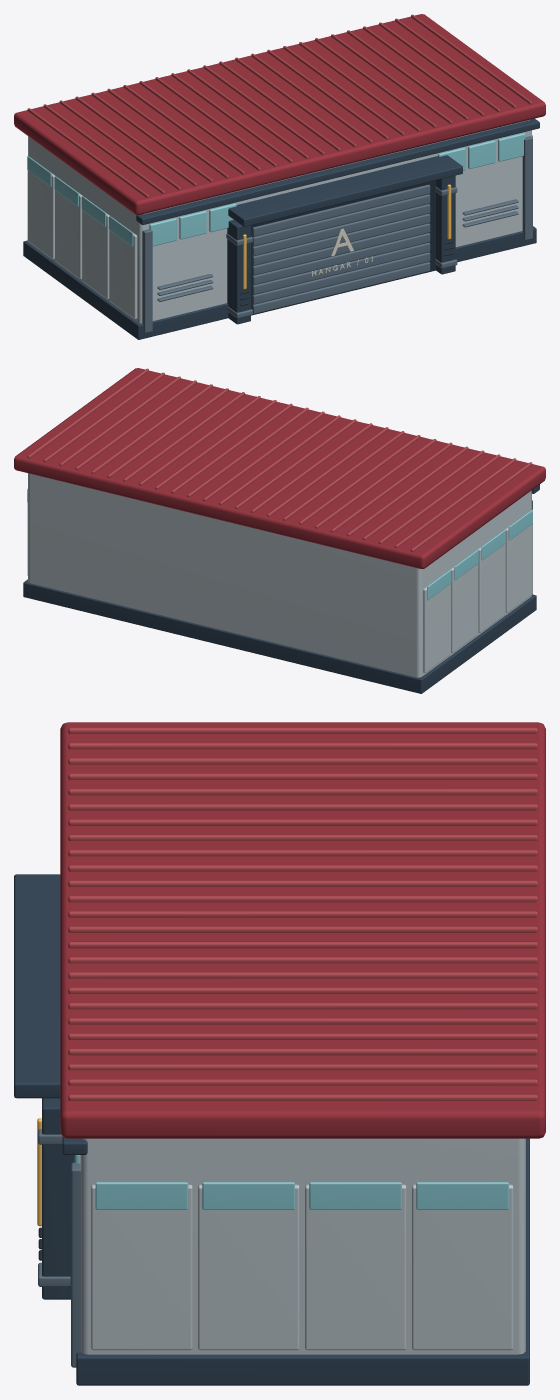
Rendered from hangar.glb.
3 views of the same model, one above another, from view 1: azimuth 30°, elevation 25°; view 2: azimuth 150°, elevation 25°; view 3: azimuth 270°, elevation 25° (orthographic). The views are drawn at different scales.
Visible parts, largest first — view 1: Techo, Nave, Visera, Zocalo, Alero continuo, Panel de costado, Panel de costado.003, Panel de costado.001, Panel de costado.002, Casete lateral, Hoja seccional.001, Hoja seccional.003 (+41 smaller); view 2: Nave, Techo, Zocalo, Panel de costado.001, Panel de costado.003, Panel de costado.002, Panel de costado, Costilla de cubierta.004, Costilla de cubierta.005, Costilla de cubierta, Costilla de cubierta.001, Costilla de cubierta.012 (+20 smaller); view 3: Techo, Nave, Zocalo, Panel de costado.004, Panel de costado.005, Panel de costado.006, Panel de costado.007, Visera, Casete lateral.001, Costilla de cubierta.014, Costilla de cubierta.002, Costilla de cubierta.009 (+27 smaller).
Boxes of the visible parts, x1,y1,x2,y2 form: Techo: (14,14,545,214); Nave: (28,119,531,323); Visera: (228,155,462,226); Zocalo: (23,226,536,339); Alero continuo: (136,118,539,224); Panel de costado: (109,219,137,319); Panel de costado.003: (27,159,54,259); Panel de costado.001: (82,198,109,299); Panel de costado.002: (55,178,82,279); Casete lateral: (227,220,250,324); Hoja seccional.001: (252,252,430,304); Hoja seccional.003: (252,233,430,284); Nave: (28,473,531,677); Techo: (14,368,545,568); Zocalo: (23,579,536,693); Panel de costado.001: (478,532,505,632); Panel de costado.003: (423,573,450,672); Panel de costado.002: (450,552,478,652); Panel de costado: (505,513,532,612); Costilla de cubierta.004: (347,446,468,536); Costilla de cubierta.005: (331,442,452,532); Costilla de cubierta: (411,462,532,551); Costilla de cubierta.001: (395,458,516,547); Costilla de cubierta.012: (219,415,340,505); Techo: (60,722,545,1138); Nave: (80,1138,525,1354); Zocalo: (76,1138,529,1385); Panel de costado.004: (91,1184,192,1350); Panel de costado.005: (198,1184,299,1350); Panel de costado.006: (305,1184,406,1350); Panel de costado.007: (412,1184,513,1350); Visera: (14,874,60,1098); Casete lateral.001: (42,1098,74,1299); Costilla de cubierta.014: (68,941,537,948); Costilla de cubierta.002: (68,758,537,764); Costilla de cubierta.009: (68,865,537,871).
Size of the model in its own units: 10.45 by 3.51 by 5.97.
